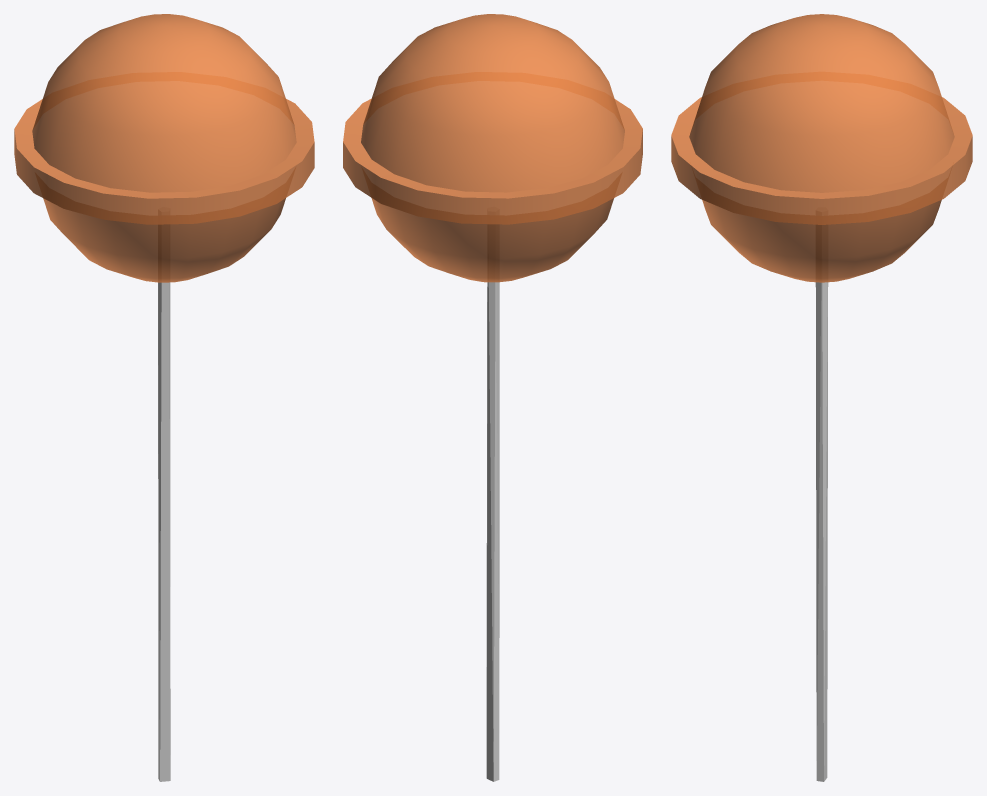
The model's file is lollipop-plant-orange.glb.
3 renders of one model, left to right at view 1: azimuth 30°, elevation 25°; view 2: azimuth 150°, elevation 25°; view 3: azimuth 270°, elevation 25°, orthographic.
Parts seen in each view (by area): view 1: lollipop-plant-orange; view 2: lollipop-plant-orange; view 3: lollipop-plant-orange.
Boxes of the visible parts, <box> form: lollipop-plant-orange: <box>14,14,314,781</box>; lollipop-plant-orange: <box>343,14,642,781</box>; lollipop-plant-orange: <box>671,14,972,781</box>.
Size of what is drawn, in the model's own units: 0.5415 by 1.49 by 0.5415.
